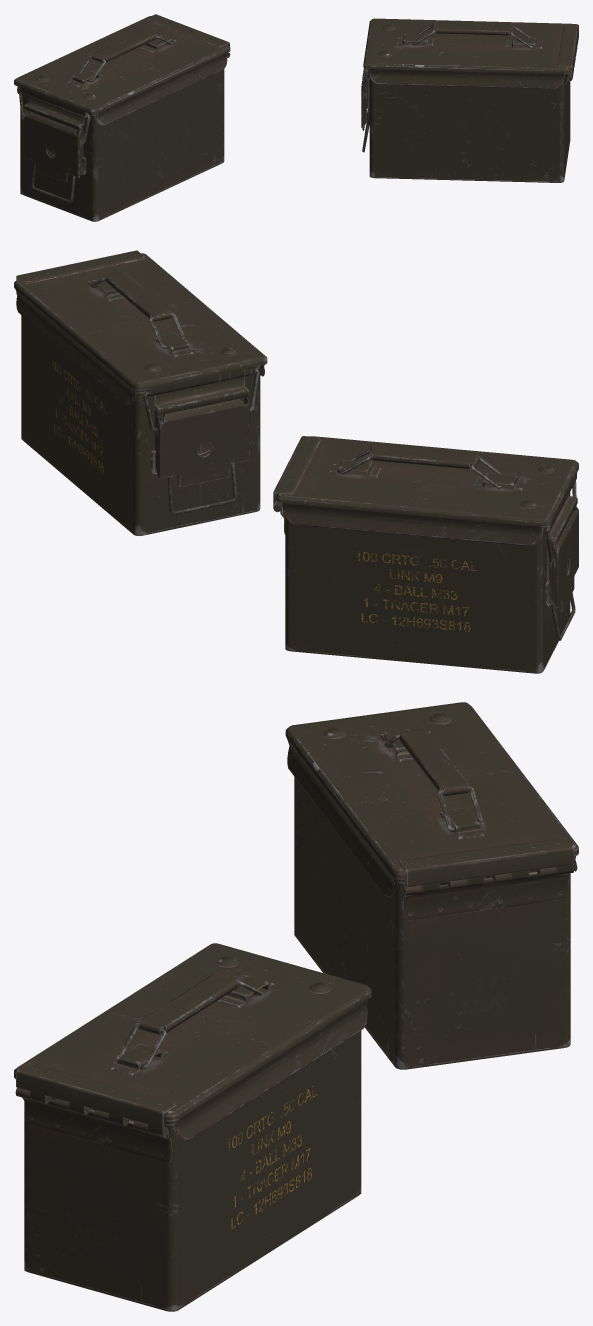
Rendered from боеприпасы .fbx.
The picture shows the model from 3 angles, top to bottom: view 1: azimuth 30°, elevation 25°; view 2: azimuth 150°, elevation 25°; view 3: azimuth 270°, elevation 25°; orthographic projection. The views are drawn at different scales.
Parts seen in each view (by area): view 1: боеприпасы.001, боеприпасы; view 2: боеприпасы, боеприпасы.001; view 3: боеприпасы.001, боеприпасы.
Part boxes in pixels (left/top/right/bottom): боеприпасы.001: left=361, top=18, right=578, bottom=182; боеприпасы: left=14, top=14, right=230, bottom=221; боеприпасы: left=273, top=436, right=578, bottom=673; боеприпасы.001: left=14, top=250, right=267, bottom=535; боеприпасы.001: left=14, top=943, right=371, bottom=1311; боеприпасы: left=285, top=702, right=578, bottom=1069.
Bounding box in the file's own units: 699 × 184 × 403.
